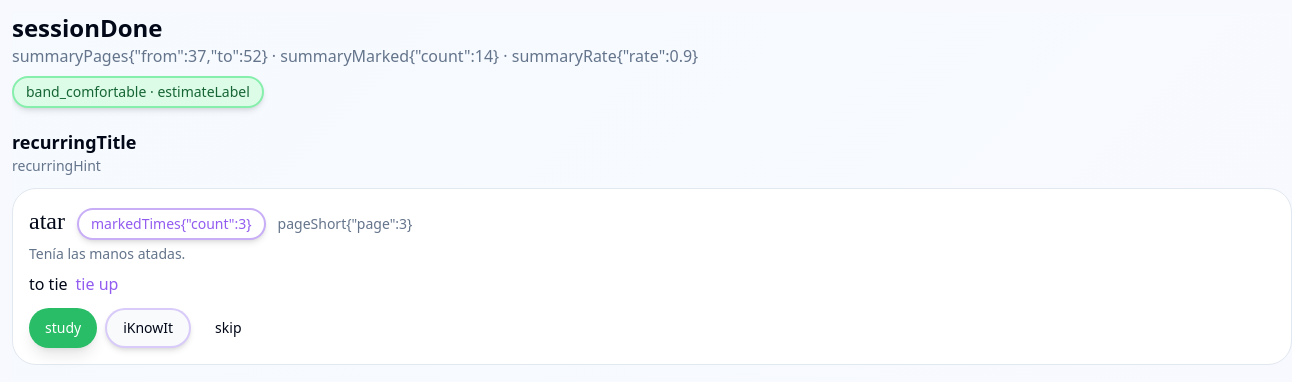
Test: BookTriage › Study saves the word with its sentence and the cached card, then starts studying it
What coordinates should you click on to do the following:
click the button "study"
I would click on:
 (63, 328)
Its box is [29,308,97,348].
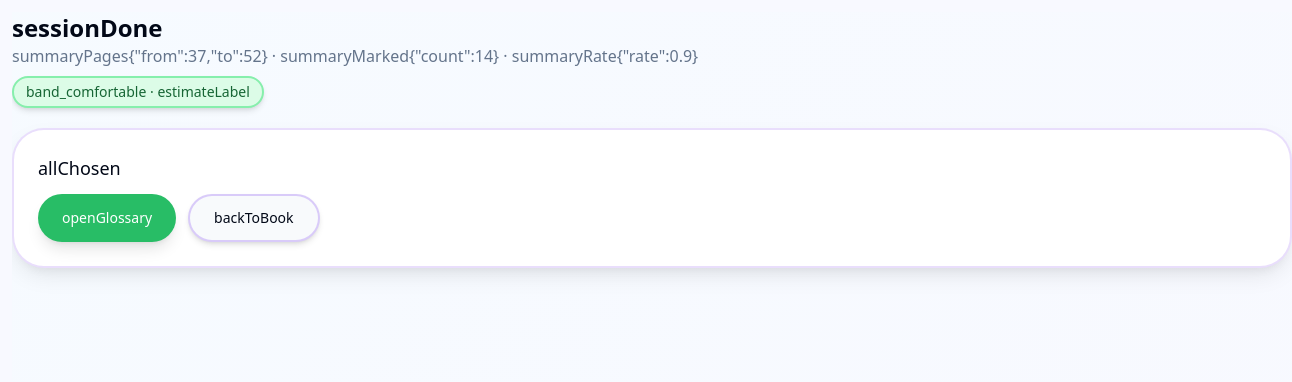
Result: the element with test id "triage-empty" is shown at [12,128,1291,268]
